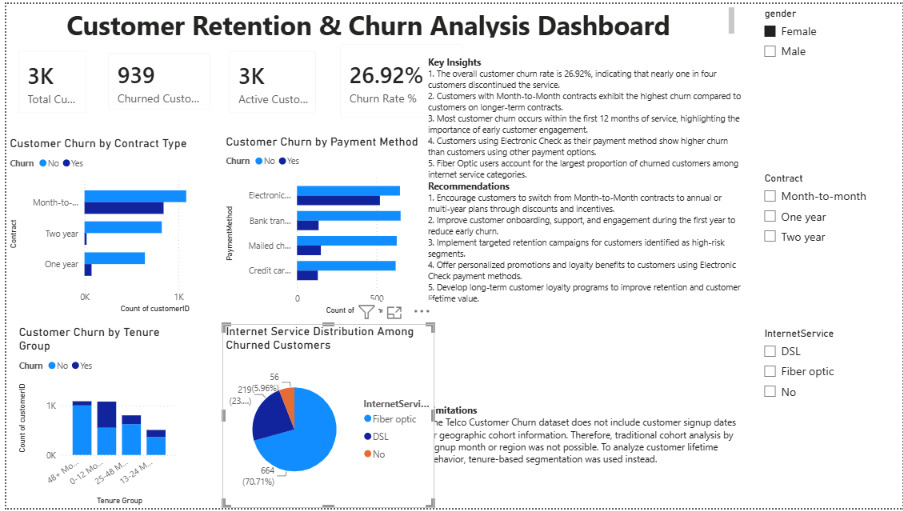

The page's visual inventory and layout, read from the dashboard file:
{"tool":"powerbi","page":{"name":"Page 1","canvas":[1280,720],"ordinal":0},"visuals":[{"type":"cardVisual","fields":{"Data":["WA_Fn-UseC_-Telco-Customer-Churn.Total Customers"]},"box":[0,50,131.7,123.3],"z":1000},{"type":"cardVisual","fields":{"Data":["WA_Fn-UseC_-Telco-Customer-Churn.Churned Customers"]},"box":[128.3,53.3,180,116.7],"z":2000},{"type":"cardVisual","fields":{"Data":["WA_Fn-UseC_-Telco-Customer-Churn.Churn Rate %"]},"box":[460,40,210,141.7],"z":3000},{"type":"cardVisual","fields":{"Data":["WA_Fn-UseC_-Telco-Customer-Churn.Active Customers"]},"box":[301.7,50,158.3,123.3],"z":4000},{"type":"clusteredBarChart","title":"Customer Churn by Contract Type","fields":{"Category":["WA_Fn-UseC_-Telco-Customer-Churn.Contract"],"Y":["CountNonNull(WA_Fn-UseC_-Telco-Customer-Churn.customerID)"],"Series":["WA_Fn-UseC_-Telco-Customer-Churn.Churn"]},"box":[0,188.3,325,258.3],"z":5000},{"type":"clusteredBarChart","title":"Customer Churn by Payment Method","fields":{"Category":["WA_Fn-UseC_-Telco-Customer-Churn.PaymentMethod"],"Y":["CountNonNull(WA_Fn-UseC_-Telco-Customer-Churn.customerID)"],"Series":["WA_Fn-UseC_-Telco-Customer-Churn.Churn"]},"box":[308.3,185,303.3,263.3],"z":6000},{"type":"columnChart","title":"Customer Churn by Tenure Group","fields":{"Category":["WA_Fn-UseC_-Telco-Customer-Churn.Tenure Group"],"Y":["CountNonNull(WA_Fn-UseC_-Telco-Customer-Churn.customerID)"],"Series":["WA_Fn-UseC_-Telco-Customer-Churn.Churn"]},"box":[13.3,458.3,235,261.7],"z":7000},{"type":"slicer","fields":{"Values":["WA_Fn-UseC_-Telco-Customer-Churn.gender"]},"box":[1070,0,197.1,184.3],"z":8000},{"type":"slicer","fields":{"Values":["WA_Fn-UseC_-Telco-Customer-Churn.Contract"]},"box":[1070,235.7,210,172.9],"z":9000},{"type":"slicer","fields":{"Values":["WA_Fn-UseC_-Telco-Customer-Churn.InternetService"]},"box":[1070,457.1,195.7,217.1],"z":10000},{"type":"pieChart","title":"Internet Service Distribution Among Churned Customers","fields":{"Category":["WA_Fn-UseC_-Telco-Customer-Churn.InternetService"],"Y":["CountNonNull(WA_Fn-UseC_-Telco-Customer-Churn.customerID)"]},"box":[308.3,456.7,303.3,263.3],"z":11000},{"type":"textbox","box":[596.7,68.3,461.7,496.7],"z":11001},{"type":"textbox","box":[596.7,565,461.7,155],"z":11002},{"type":"textbox","box":[81.7,0,963.3,53.3],"z":11003}]}

Visuals, with their boxes in screenshot pixels (x1, y1, x2, y2), scaled from the page's 1280x720 canvas onto the 903x511 screenshot:
cardVisual - WA_Fn-UseC_-Telco-Customer-Churn.Total Customers: 0,35,93,123
cardVisual - WA_Fn-UseC_-Telco-Customer-Churn.Churned Customers: 91,38,217,121
cardVisual - WA_Fn-UseC_-Telco-Customer-Churn.Churn Rate %: 325,28,473,129
cardVisual - WA_Fn-UseC_-Telco-Customer-Churn.Active Customers: 213,35,325,123
"Customer Churn by Contract Type" clusteredBarChart: 0,134,229,317
"Customer Churn by Payment Method" clusteredBarChart: 217,131,431,318
"Customer Churn by Tenure Group" columnChart: 9,325,175,510
slicer - WA_Fn-UseC_-Telco-Customer-Churn.gender: 755,0,894,131
slicer - WA_Fn-UseC_-Telco-Customer-Churn.Contract: 755,167,902,290
slicer - WA_Fn-UseC_-Telco-Customer-Churn.InternetService: 755,324,893,478
"Internet Service Distribution Among Churned Customers" pieChart: 217,324,431,510
textbox: 421,48,747,401
textbox: 421,401,747,510
textbox: 58,0,737,38
